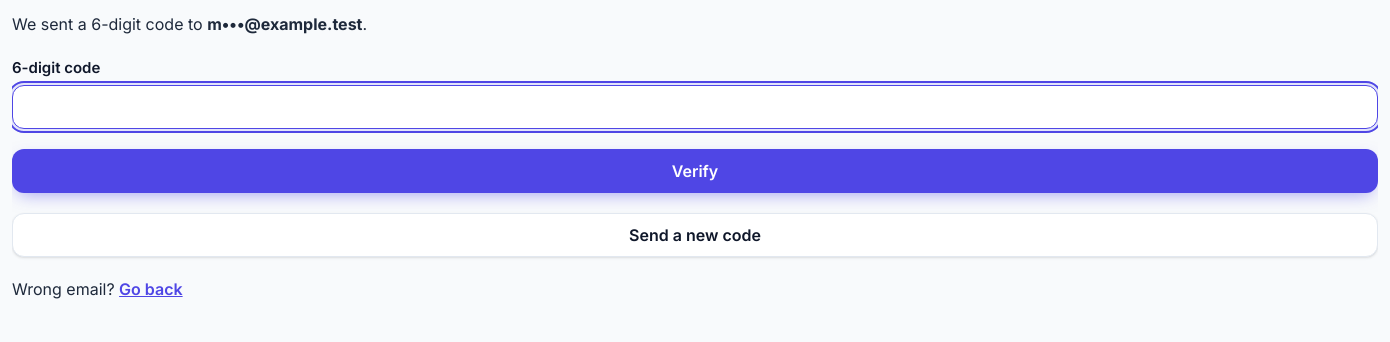
VerifyForm › offers a new code when the code expired (U2 replaces U1's start-again link)
Type "123456" into the field with test id "verify-code-input" at (695, 107), box [12,85,1378,129]
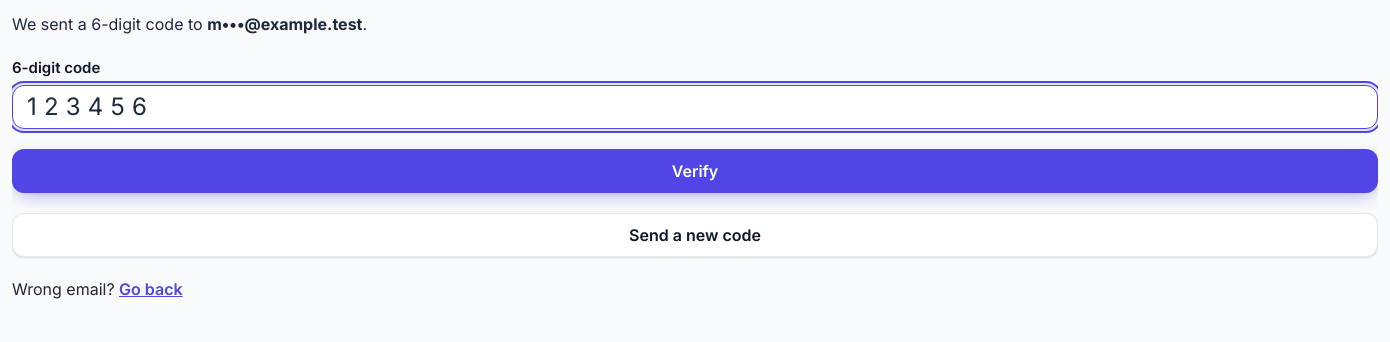
Click the button with test id "verify-submit-button" at (695, 171), box [12,149,1378,193]
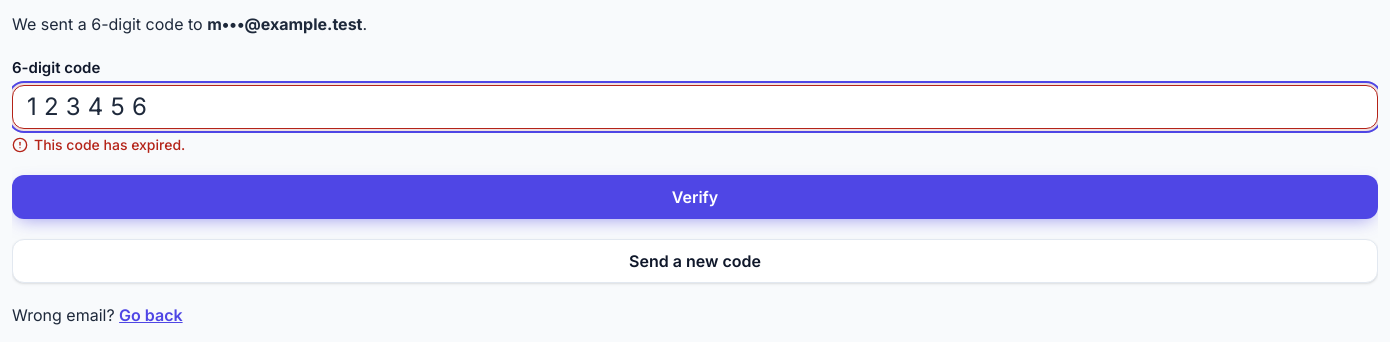
Expected: the button with test id "resend-code-button" is shown, [12,239,1378,283]
Now the element with test id "code-error" reads "This code has expired.", box [34,136,185,153]
